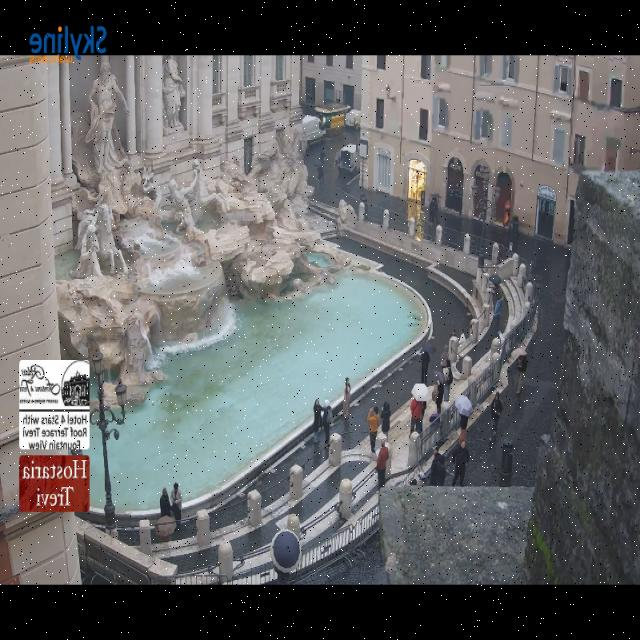person: (452, 442, 468, 487), (428, 445, 444, 485), (489, 392, 501, 442), (376, 438, 387, 488), (170, 483, 181, 529), (367, 408, 378, 453), (409, 398, 422, 435), (322, 400, 331, 444), (443, 358, 452, 402), (516, 356, 526, 395), (313, 399, 322, 442), (492, 295, 502, 331), (380, 402, 390, 436), (160, 489, 171, 517), (420, 350, 429, 384), (435, 380, 443, 414), (418, 402, 426, 432), (343, 378, 349, 417), (428, 195, 436, 223), (459, 416, 467, 443), (503, 200, 509, 227), (458, 331, 465, 349), (316, 166, 323, 182), (319, 151, 325, 164)
